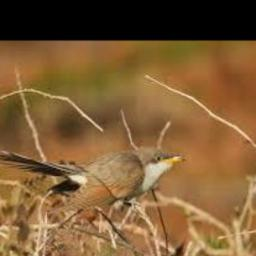Cuckoo: (0, 148, 188, 210)
